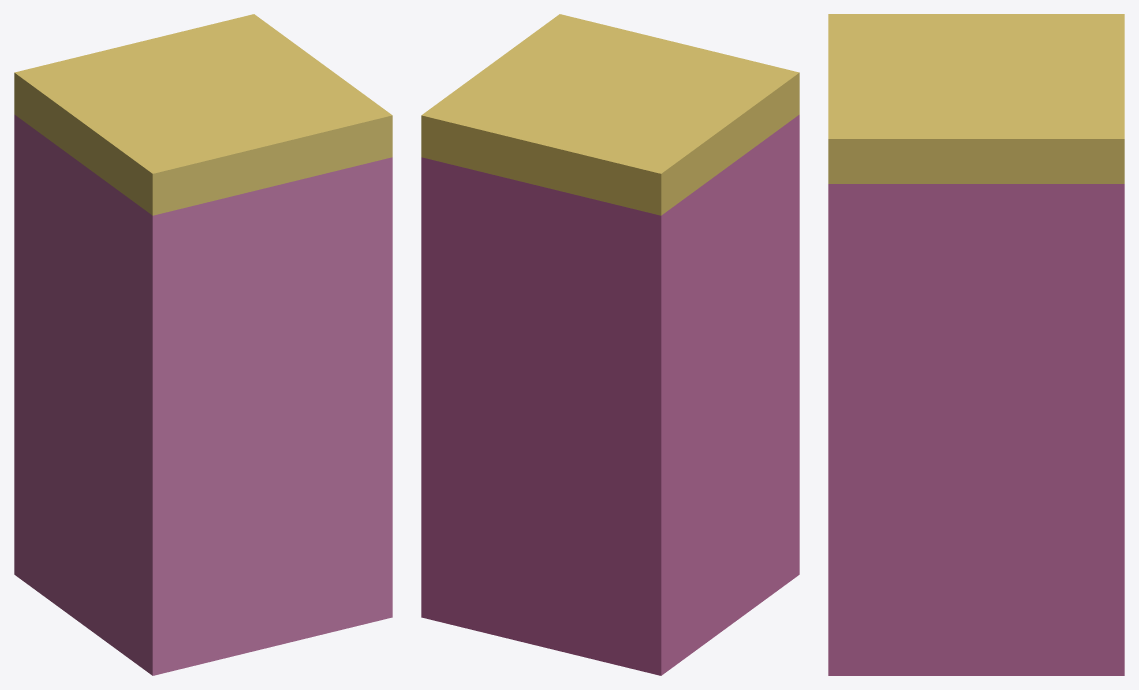
Rendered from squidgame_props_platform3_pink.fbx.
3 renders of one model, left to right at view 1: azimuth 30°, elevation 25°; view 2: azimuth 150°, elevation 25°; view 3: azimuth 270°, elevation 25°, orthographic. The views are drawn at different scales.
Parts seen in each view (by area): view 1: squidgame_props_platform3_pink; view 2: squidgame_props_platform3_pink; view 3: squidgame_props_platform3_pink.
Boxes of the visible parts, x1,y1,x2,y2 form: squidgame_props_platform3_pink: [14, 14, 392, 675]; squidgame_props_platform3_pink: [421, 14, 799, 675]; squidgame_props_platform3_pink: [828, 14, 1124, 675].
Size of the model in its own units: 1.5 by 3 by 1.5.
